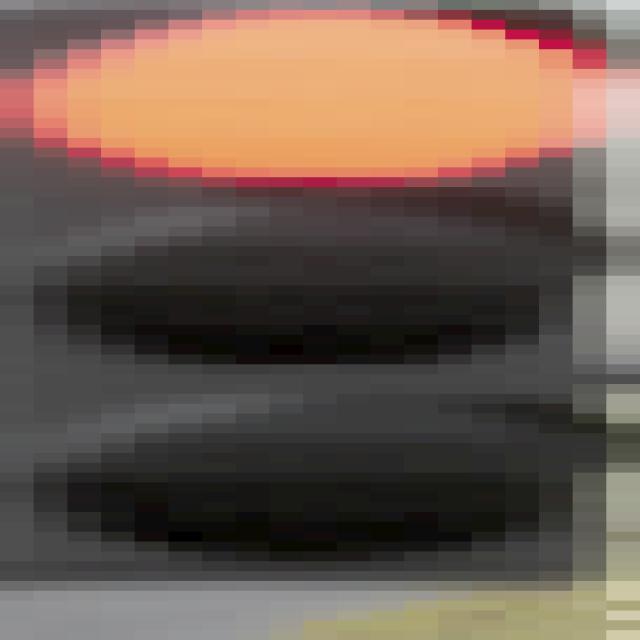red_light: (0, 7, 640, 590)
